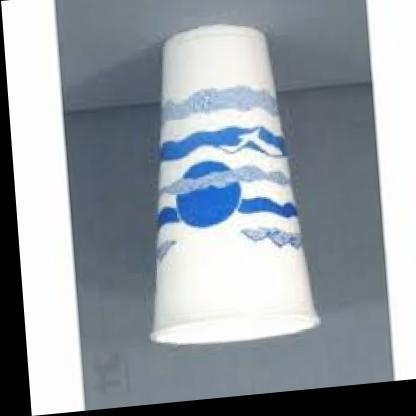trash: (151, 25, 318, 343)
